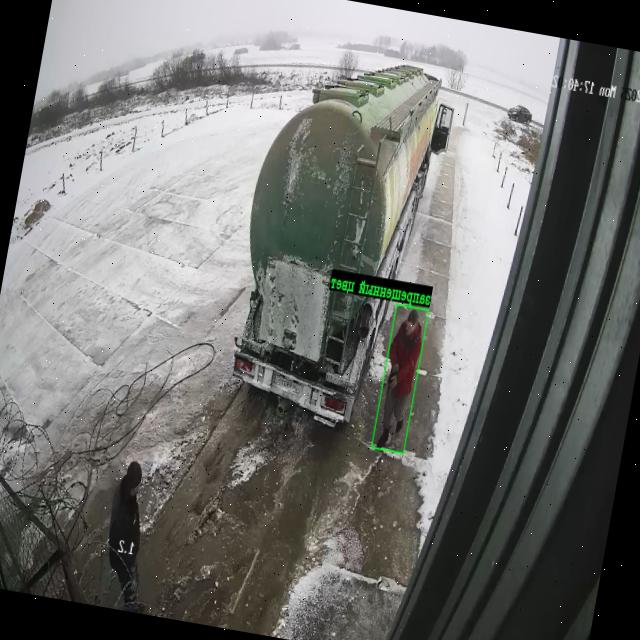Person: (108, 461, 142, 612)
Red uniform: (377, 310, 421, 446)
